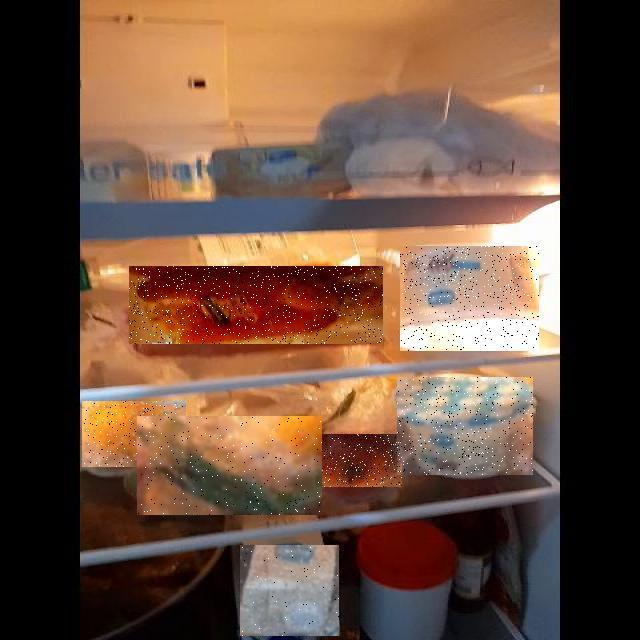Carrot: (129, 266, 383, 344)
Chillies: (137, 416, 322, 515)
Lemon: (82, 401, 186, 467)
Milk: (240, 545, 339, 636)
Tomato Paste: (316, 434, 402, 487)
Yoghurt: (400, 246, 539, 351), (397, 377, 533, 475)
